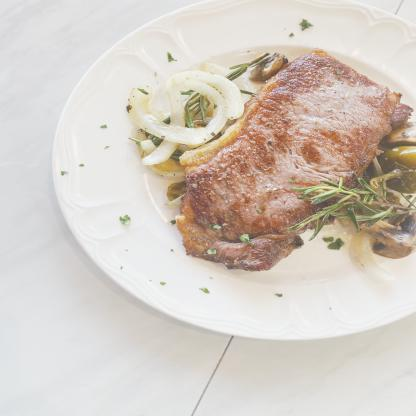Carne: (170, 46, 416, 273)
